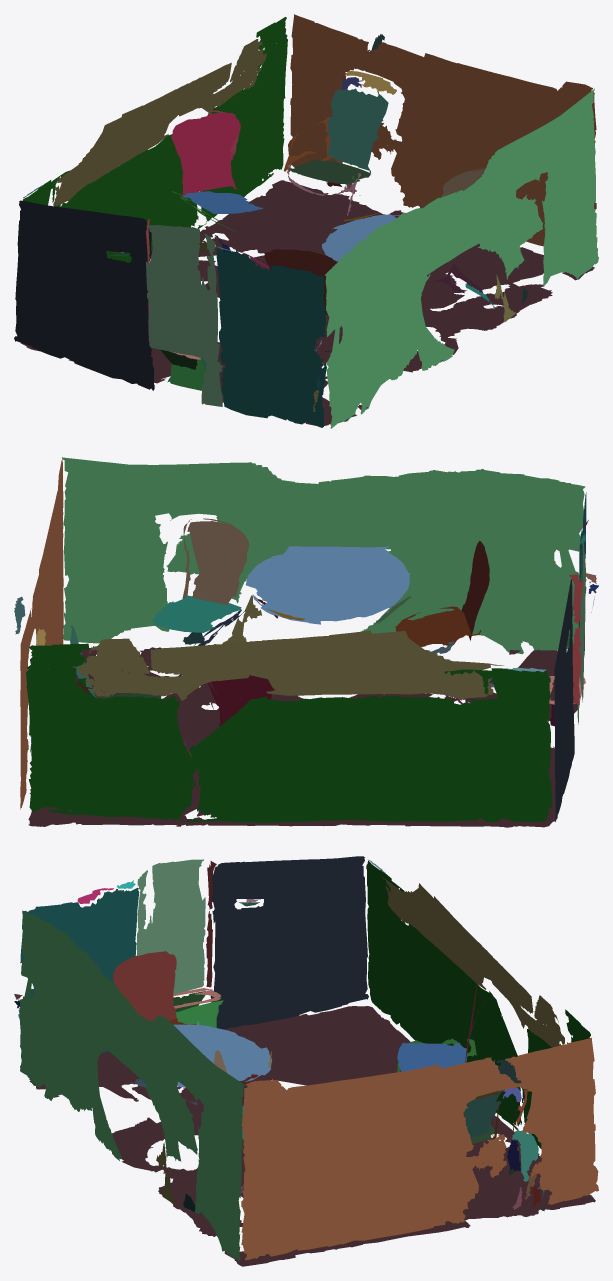
3 renders of one model, top to bottom at view 1: azimuth 30°, elevation 25°; view 2: azimuth 150°, elevation 25°; view 3: azimuth 270°, elevation 25°, orthographic. The views are drawn at different scales.
Parts seen in each view (by area): view 1: planes_mesh_vis-lean; view 2: planes_mesh_vis-lean; view 3: planes_mesh_vis-lean.
Boxes of the visible parts, x1,y1,x2,y2 form: planes_mesh_vis-lean: (14, 14, 598, 428); planes_mesh_vis-lean: (14, 457, 598, 827); planes_mesh_vis-lean: (14, 856, 598, 1266).
Bounding box in the file's own units: 4.03 × 1.36 × 3.82.
